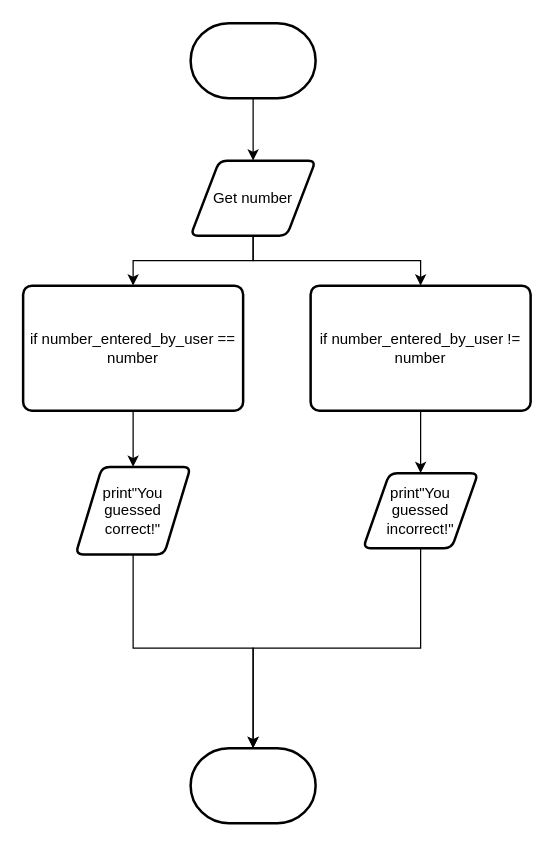
Some shapes in this 553 by 845 pixel diagram are drawn without their labels. Each missing label, with the centre of its shape:
Start: (x=252, y=60)
Stop: (x=252, y=785)
